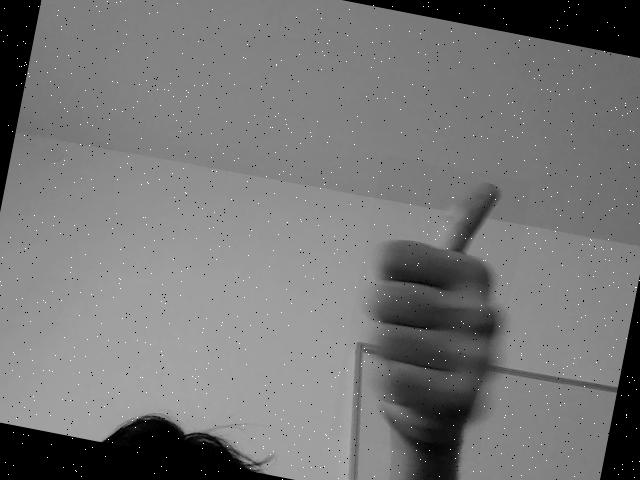good: (354, 176, 500, 455)
